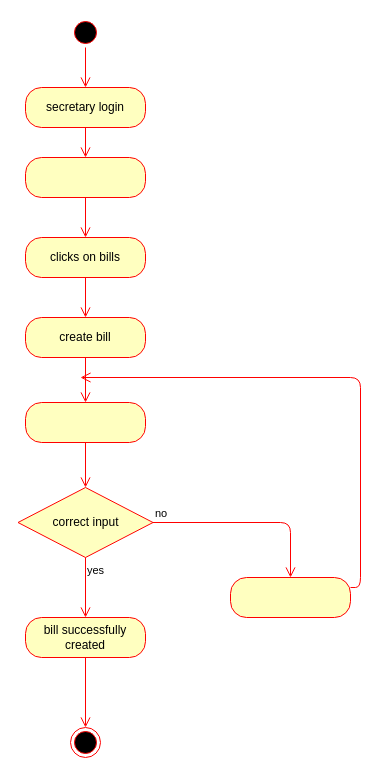
Some shapes in this 388 by 775 pixel diagram are drawn without their labels. The shapes that lost their labels are listed below. From the top down, each one's box as (x1, y1, x2, y2) in pixels, then its label:
(24, 156, 146, 198): dashboard displayed
(24, 402, 146, 442): fill bill form
(230, 576, 350, 618): show error fields
